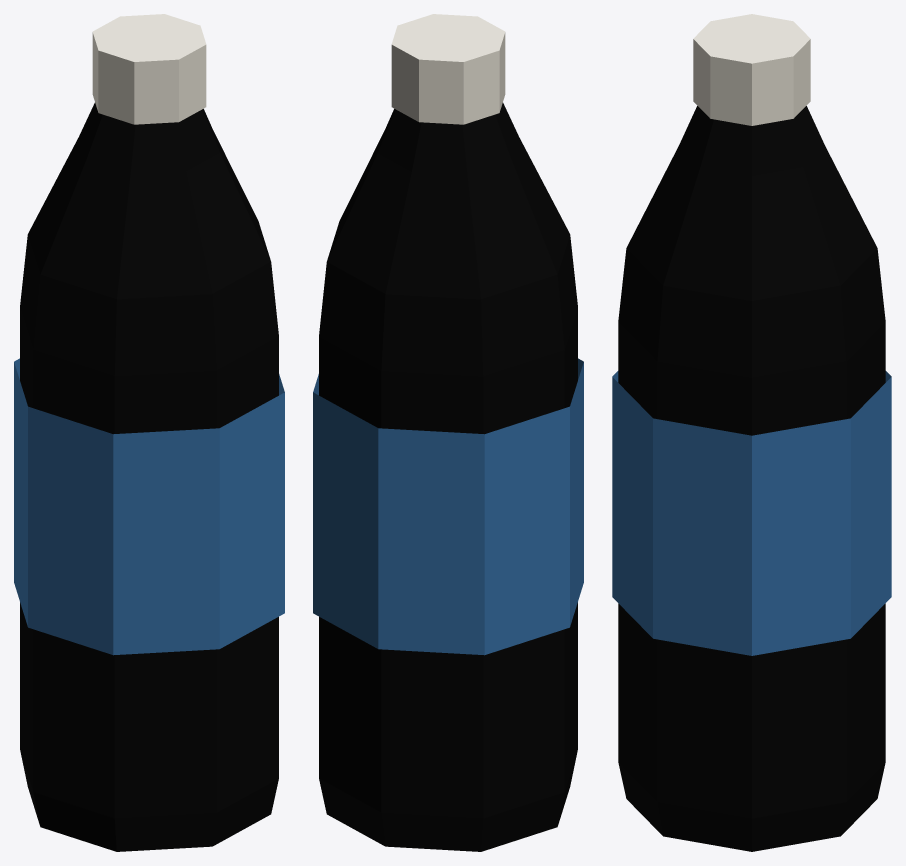
Rendered from Item_water_bottle.fbx.
The picture shows the model from 3 angles, left to right: view 1: azimuth 30°, elevation 25°; view 2: azimuth 150°, elevation 25°; view 3: azimuth 270°, elevation 25°; orthographic projection.
Parts seen in each view (by area): view 1: Bottle, Label, Cap; view 2: Bottle, Label, Cap; view 3: Bottle, Label, Cap.
Boxes of the visible parts, x1,y1,x2,y2 form: Bottle: (20, 103, 278, 851); Label: (14, 358, 284, 655); Cap: (92, 14, 206, 124); Bottle: (319, 103, 577, 851); Label: (313, 358, 583, 655); Cap: (391, 14, 505, 124); Bottle: (618, 106, 885, 851); Label: (612, 371, 891, 655); Cap: (693, 14, 810, 125).
Size of the model in its own units: 0.0931 by 0.2795 by 0.0932.
